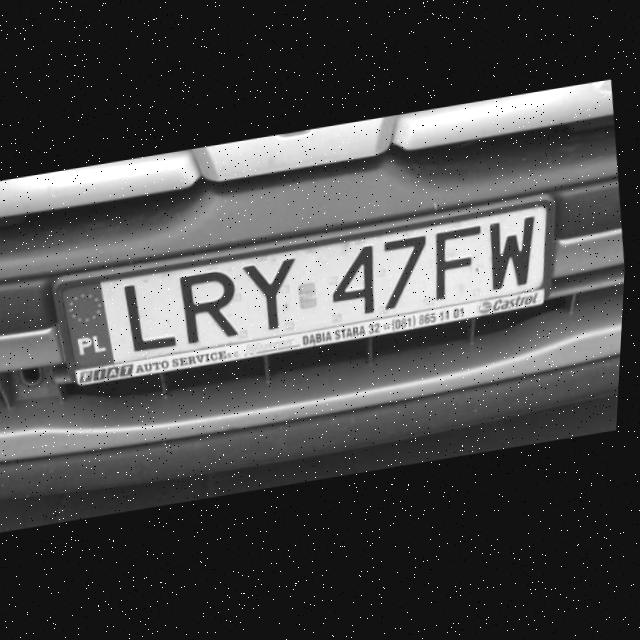license-plates: (61, 205, 548, 367)
